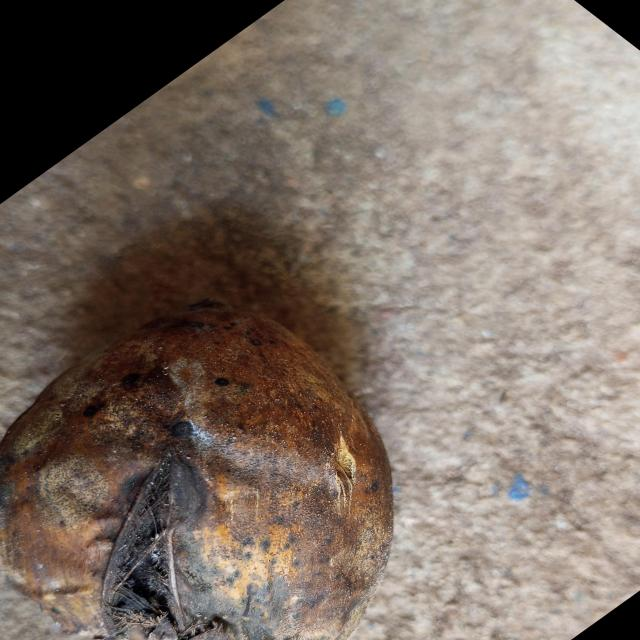damaged: (2, 302, 393, 640)
